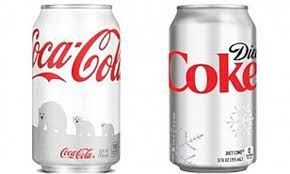can: (29, 2, 124, 173), (166, 2, 258, 174)
